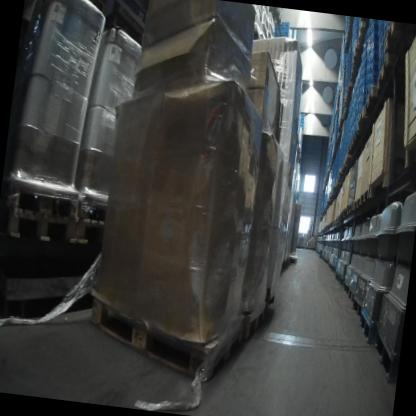pallet: (82, 289, 246, 383), (4, 207, 78, 246), (12, 183, 81, 218), (369, 327, 399, 382), (106, 11, 144, 44), (75, 217, 105, 248), (242, 304, 265, 341), (78, 195, 109, 222), (402, 117, 416, 170), (357, 308, 378, 343), (376, 52, 392, 91), (72, 0, 106, 16), (383, 21, 399, 53), (363, 87, 379, 116), (355, 109, 373, 134), (21, 0, 36, 25), (351, 299, 364, 320), (356, 19, 366, 46), (359, 188, 369, 205), (339, 205, 348, 221), (352, 42, 360, 60), (350, 60, 357, 80), (342, 281, 351, 296), (287, 253, 298, 265), (352, 130, 360, 146), (343, 152, 352, 165), (347, 139, 354, 154), (348, 289, 355, 303), (353, 197, 360, 209), (338, 274, 345, 286), (347, 203, 353, 215), (334, 271, 340, 283), (340, 161, 348, 170), (342, 107, 347, 115)
small_load_carrier: (353, 101, 359, 117), (350, 84, 356, 100), (353, 116, 358, 134), (351, 110, 356, 125), (354, 87, 359, 102), (348, 119, 353, 133), (350, 123, 355, 137), (347, 130, 352, 144), (282, 28, 290, 36), (283, 21, 290, 29), (352, 97, 356, 111), (279, 21, 284, 29), (279, 28, 283, 35)
